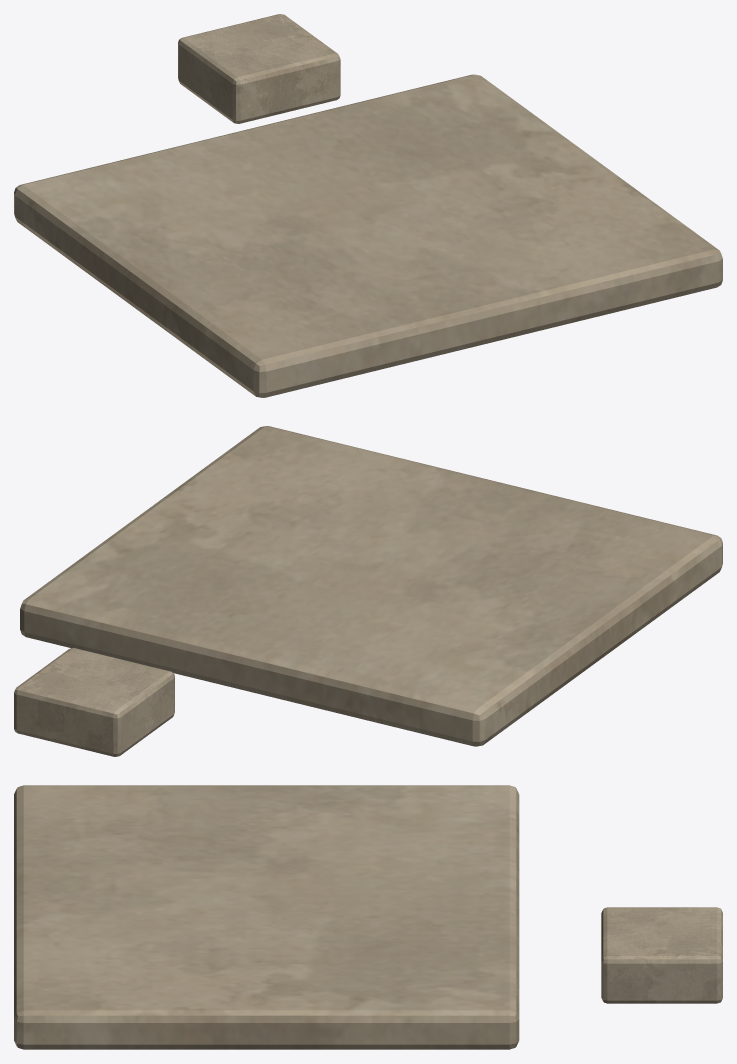
Rendered from SM_IntakeDemo_PumpFoundation.fbx.
3 renders of one model, top to bottom at view 1: azimuth 30°, elevation 25°; view 2: azimuth 150°, elevation 25°; view 3: azimuth 270°, elevation 25°, orthographic. The views are drawn at different scales.
Parts seen in each view (by area): view 1: SM_IntakeDemo_PumpFoundation; view 2: SM_IntakeDemo_PumpFoundation; view 3: SM_IntakeDemo_PumpFoundation.
Boxes of the visible parts, bbox=[...] form: SM_IntakeDemo_PumpFoundation: bbox=[14, 14, 722, 397]; SM_IntakeDemo_PumpFoundation: bbox=[14, 426, 722, 756]; SM_IntakeDemo_PumpFoundation: bbox=[14, 785, 722, 1049].
Size of what is drawn, in the model's own units: 231 by 298 by 22.
